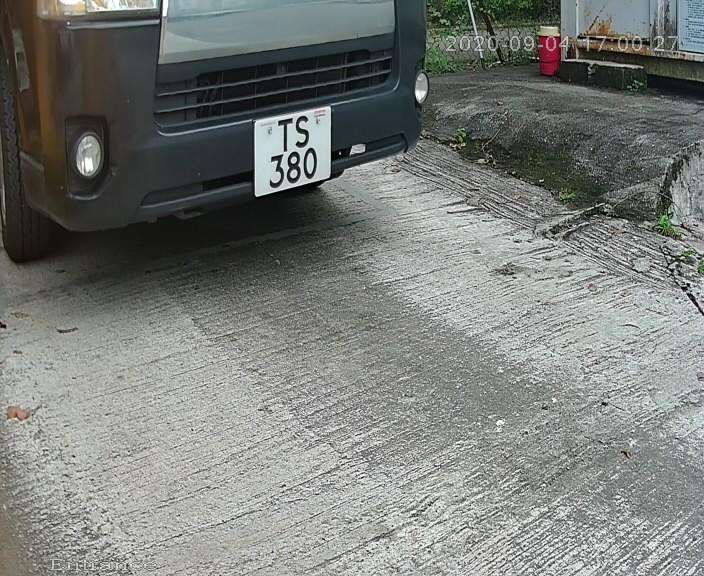Car: (23, 1, 485, 299)
License Plate: (243, 101, 343, 204)
